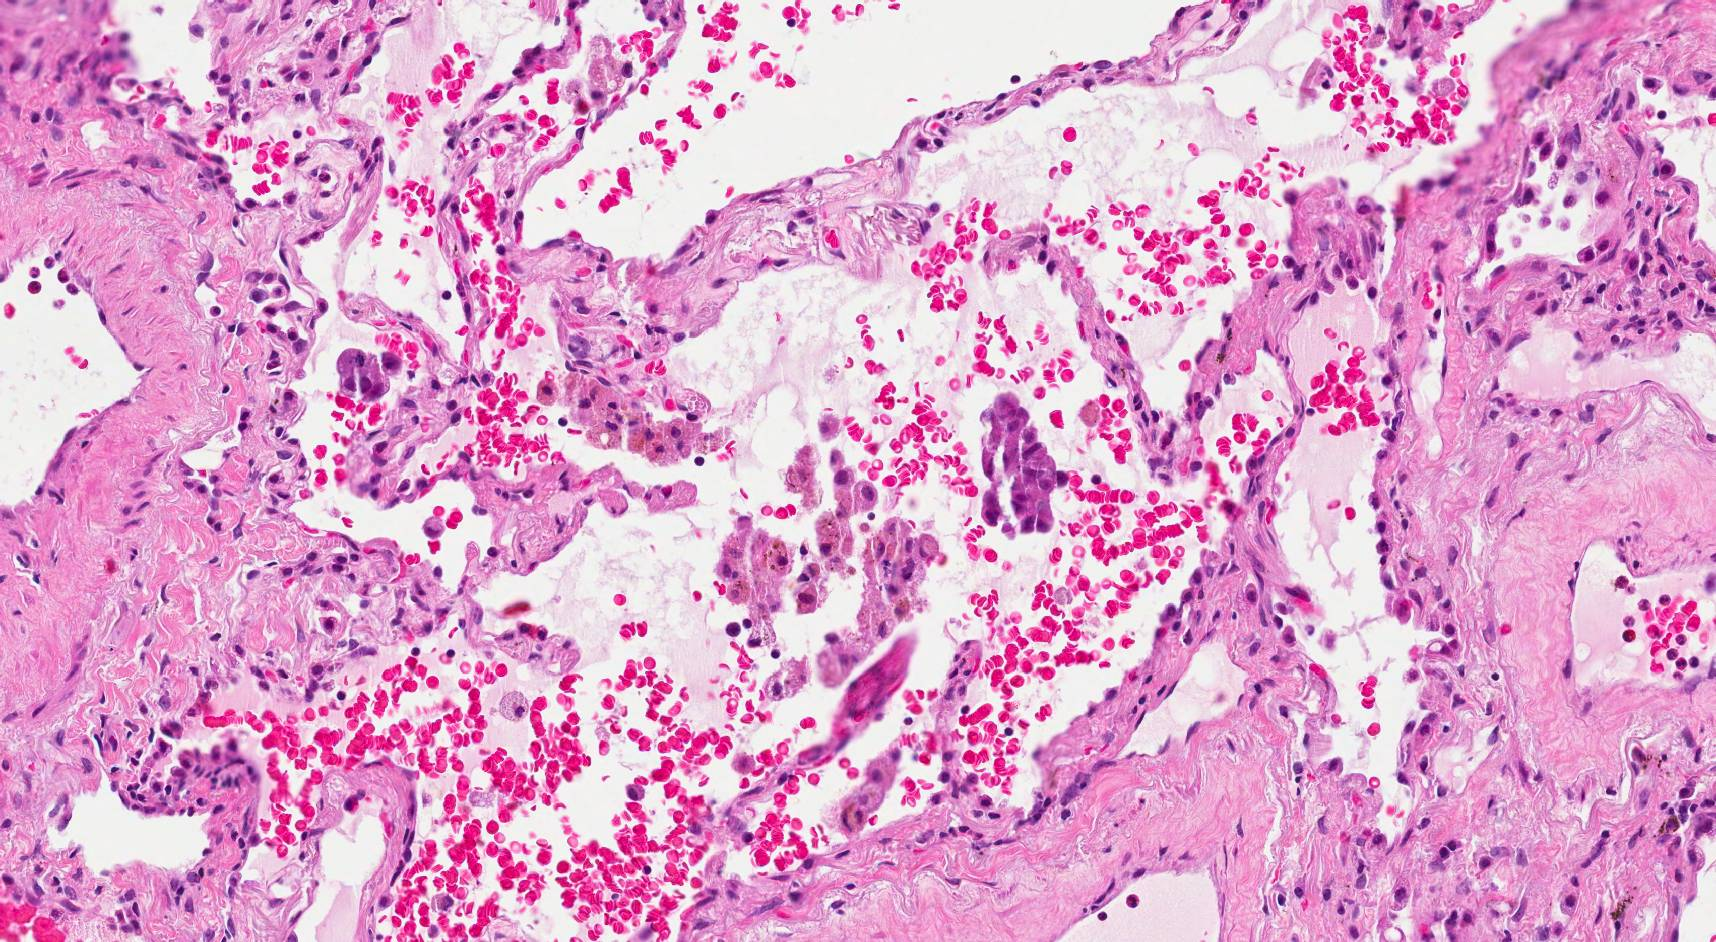stas: (967, 389, 1071, 539), (323, 343, 408, 410)
